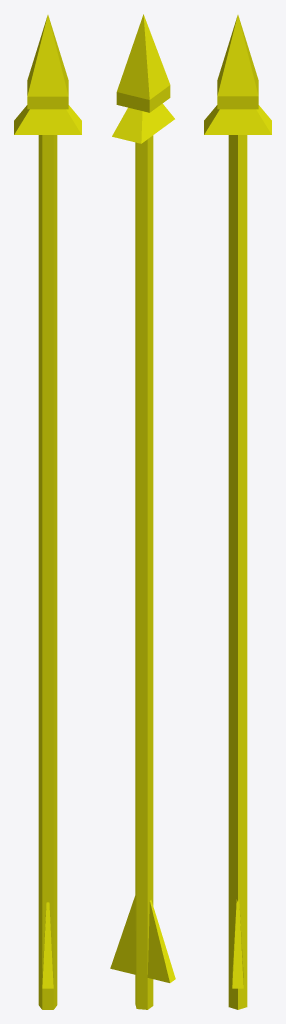
File: _arrow_c_23.glb
3 renders of one model, left to right at view 1: azimuth 90°, elevation 25°; view 2: azimuth 150°, elevation 25°; view 3: azimuth 270°, elevation 25°, orthographic.
Visible parts, largest first — view 1: arrow_c_23; view 2: arrow_c_23; view 3: arrow_c_23.
Part boxes in pixels (x1=…): arrow_c_23: x1=14, y1=15, x2=81, y2=1009; arrow_c_23: x1=110, y1=14, x2=175, y2=1009; arrow_c_23: x1=204, y1=15, x2=271, y2=1009.
Bounding box in the file's own units: 0.0379 × 0.6001 × 0.0372.
Materials: 1 (1 with a texture image).
